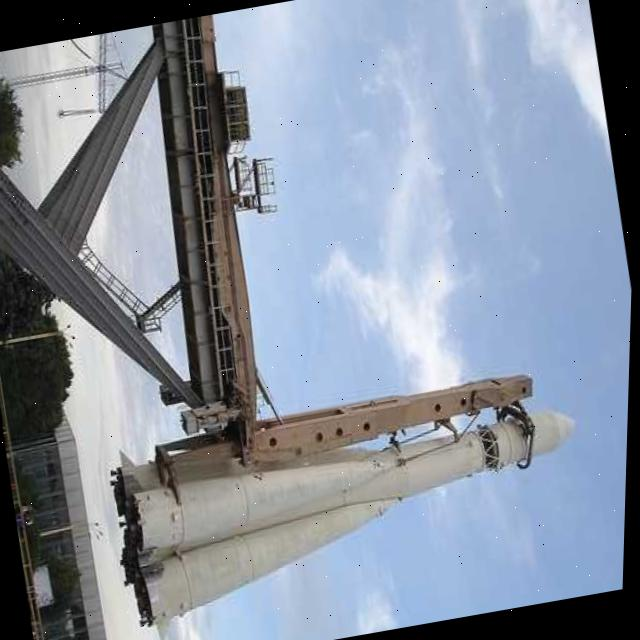missile: (122, 382, 599, 630)
